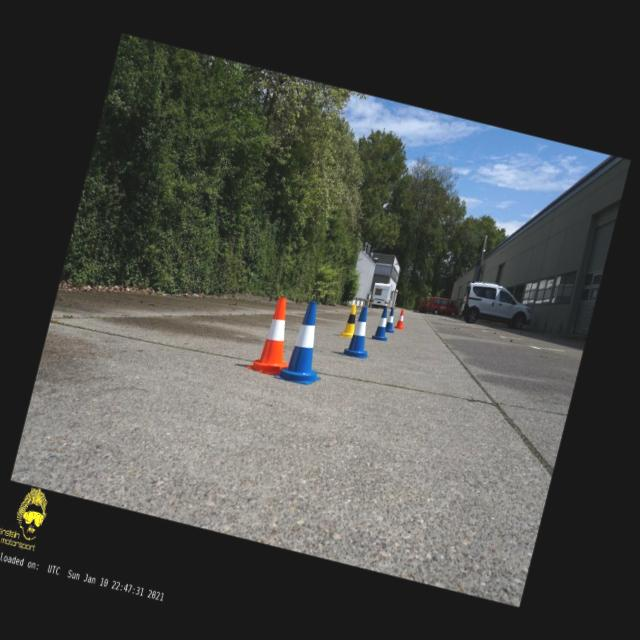blue_cone: (274, 296, 338, 388), (341, 304, 378, 360), (371, 306, 394, 342), (384, 308, 398, 332)
orange_cone: (245, 292, 303, 378), (394, 308, 408, 329)
yellow_cone: (340, 302, 360, 338)
